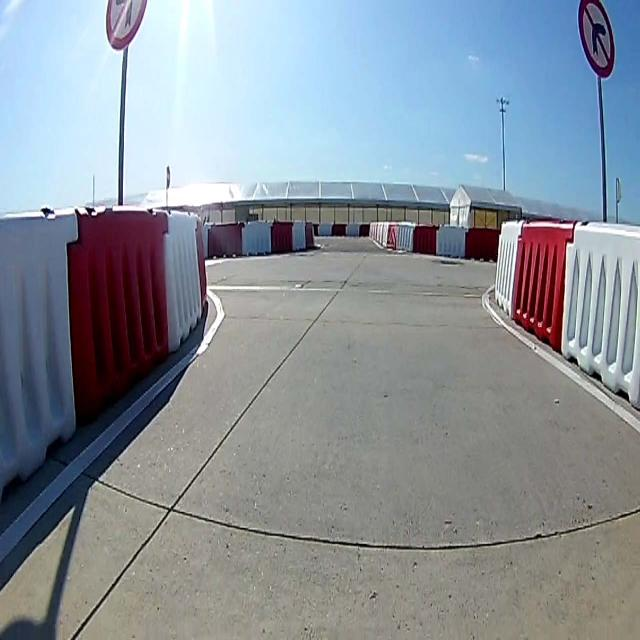sagadonulmez: (578, 1, 616, 75)
